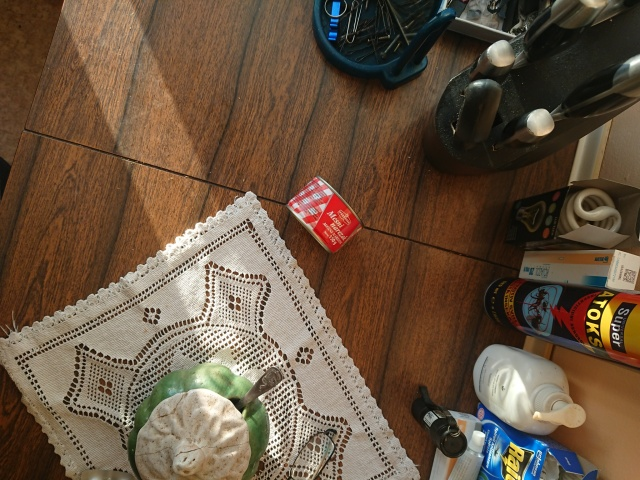Podravka Luncheon Meat 150g: (283, 172, 368, 258)
